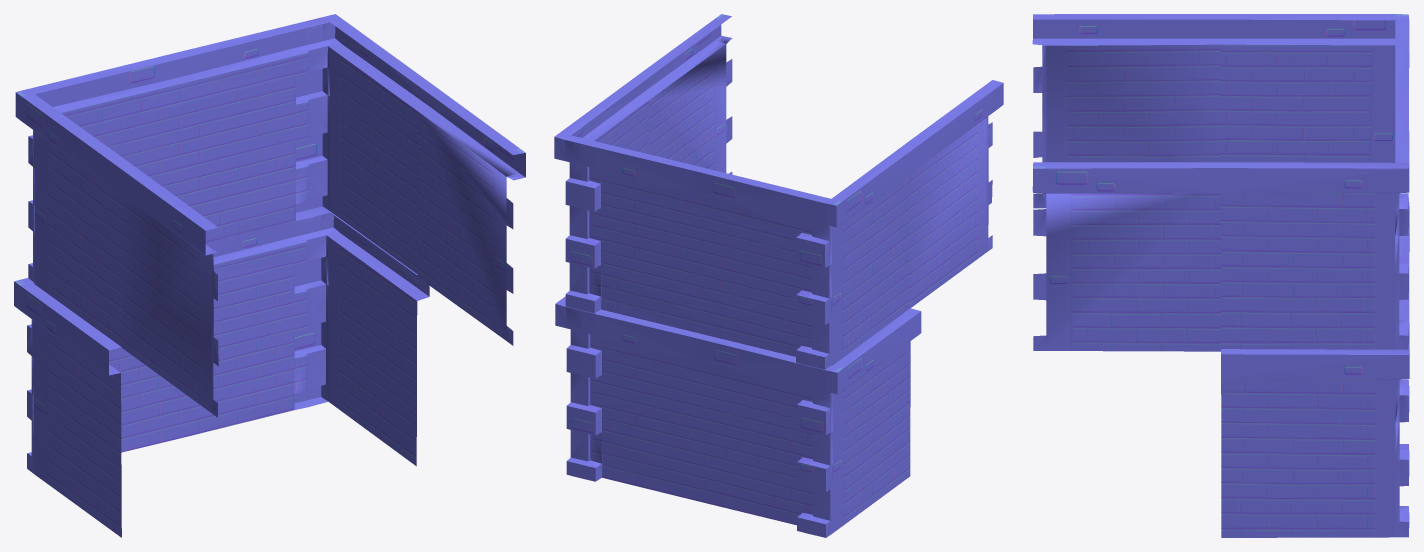
File: HouseLower1.fbx
The picture shows the model from 3 angles, left to right: view 1: azimuth 30°, elevation 25°; view 2: azimuth 150°, elevation 25°; view 3: azimuth 270°, elevation 25°; orthographic projection. The views are drawn at different scales.
Visible parts, largest first — view 1: LowerHouse; view 2: LowerHouse; view 3: LowerHouse.
Part boxes in pixels (x1=…): LowerHouse: x1=14, y1=14, x2=525, y2=537; LowerHouse: x1=554, y1=14, x2=1003, y2=537; LowerHouse: x1=1032, y1=14, x2=1409, y2=537.
Bounding box in the file's own units: 132 × 149 × 135.
